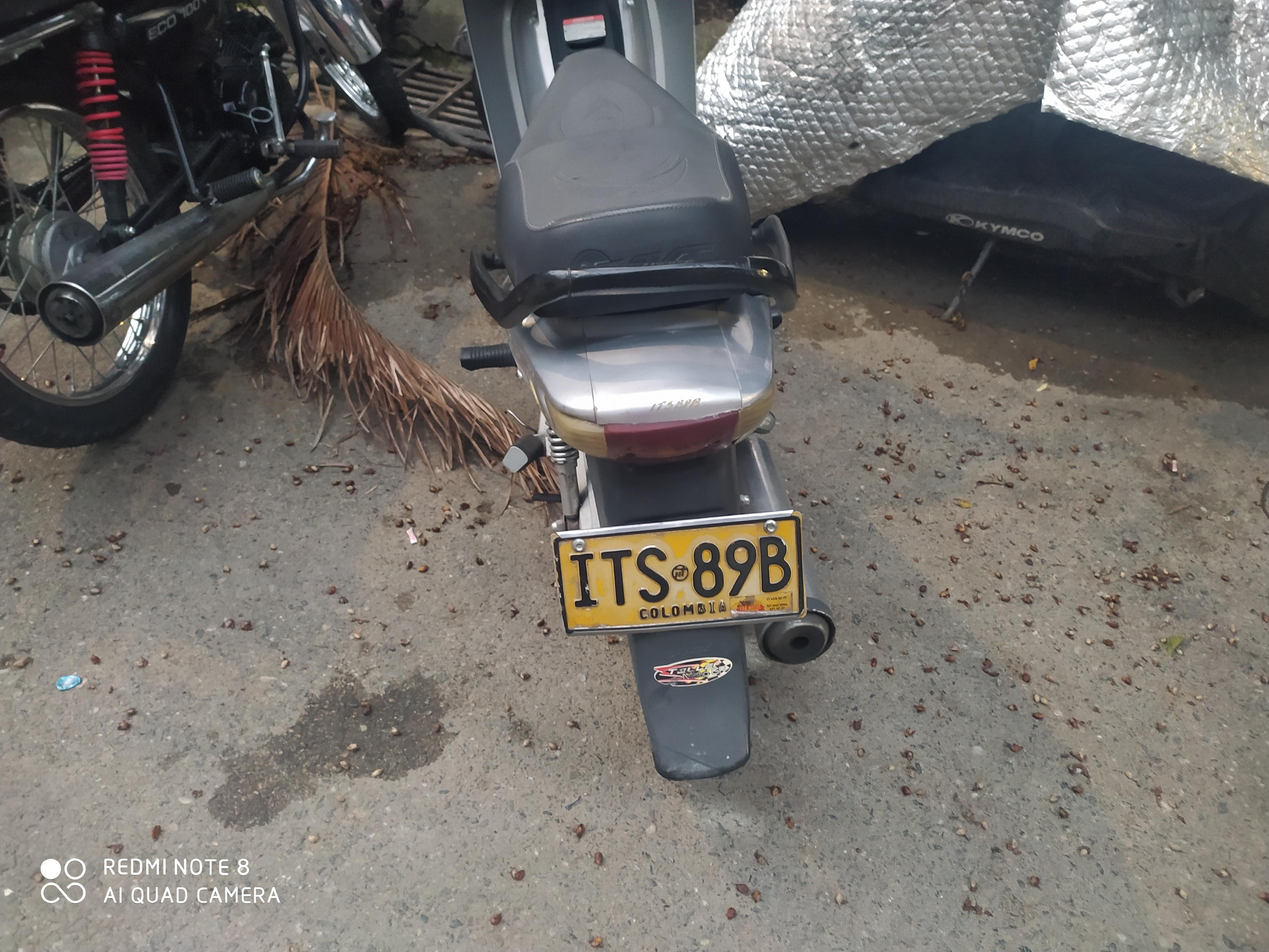placa: (540, 513, 812, 636)
